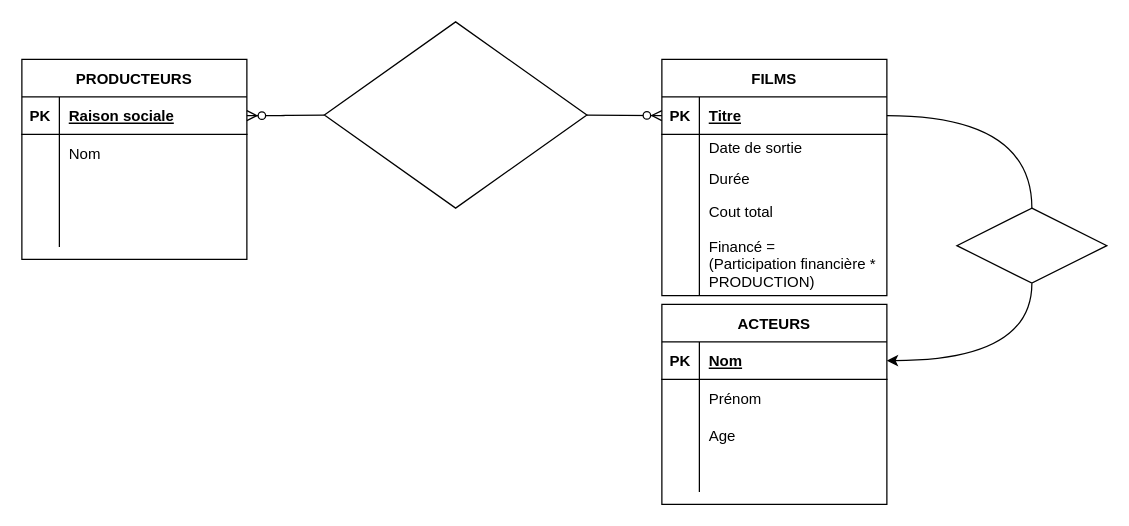
Image size: 1129x526. Some labels were removed from this diagram. Each missing label, with the centre of its shape:
PRODUCTION Raison sociale Titre Participation financière: the point at 455,114
ROLE Titre Nom: the point at 1031,245
